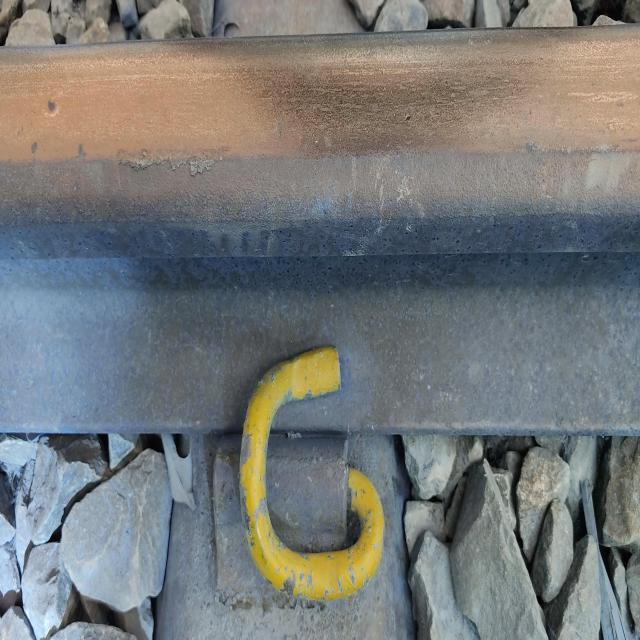Good Fasteners: (175, 301, 392, 624)
